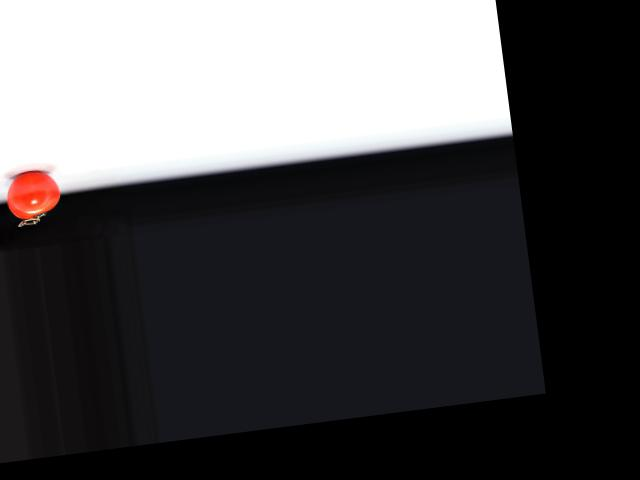tomato: (4, 168, 63, 221)
